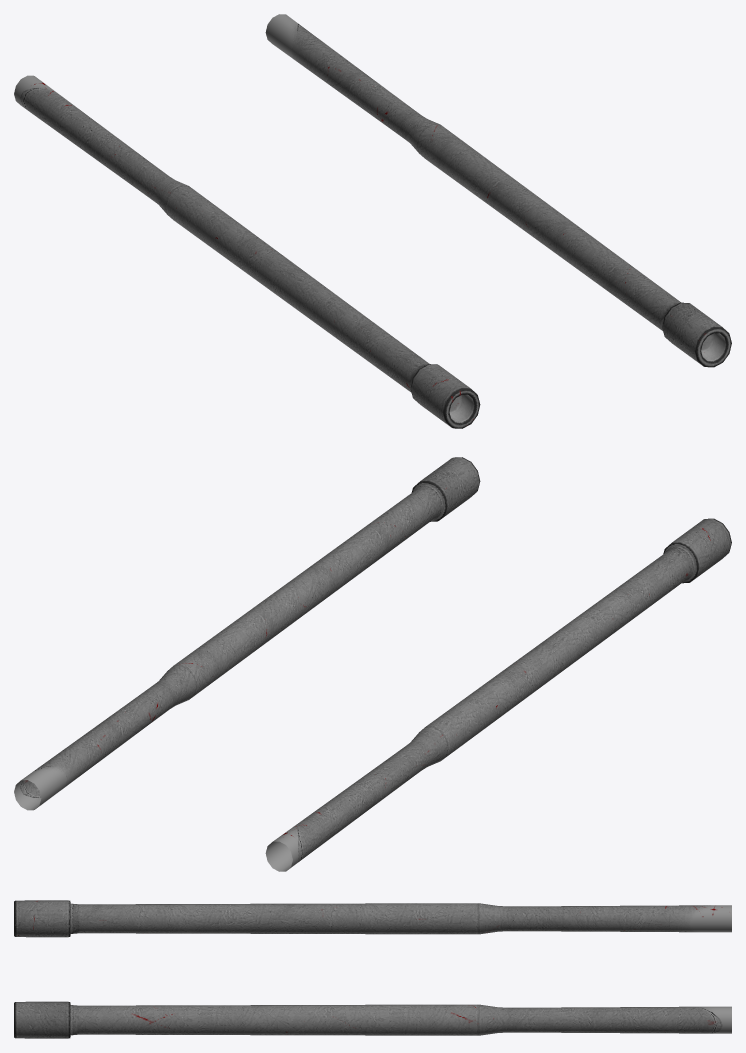
File: Parte3.obj
The picture shows the model from 3 angles, top to bottom: view 1: azimuth 30°, elevation 25°; view 2: azimuth 150°, elevation 25°; view 3: azimuth 270°, elevation 25°; orthographic projection. The views are drawn at different scales.
Parts seen in each view (by area): view 1: Disparos.001_Circle.002; view 2: Disparos.001_Circle.002; view 3: Disparos.001_Circle.002.
Part boxes in pixels (x1,y1,x2,y2): Disparos.001_Circle.002: [14, 14, 731, 428]; Disparos.001_Circle.002: [14, 457, 731, 871]; Disparos.001_Circle.002: [14, 900, 731, 1038].
Size of the model in its own units: 3.29 by 0.4456 by 8.6.
Materials: 1 (1 with a texture image).
